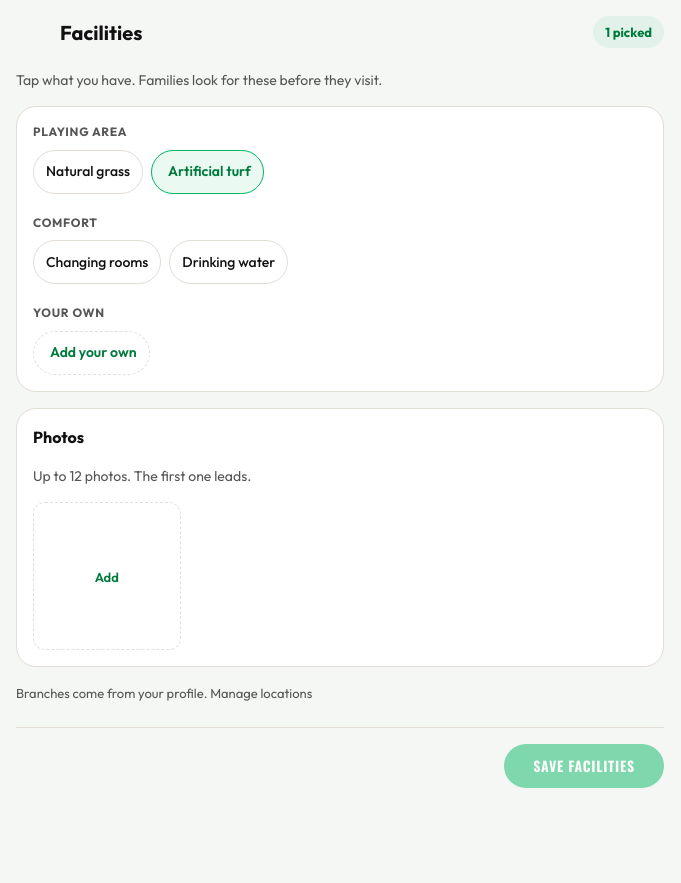
Test case: The facility chips › refuses own words that are too short, and a repeat
Click the button "Add your own" at (91, 353), box [33,331,150,375]
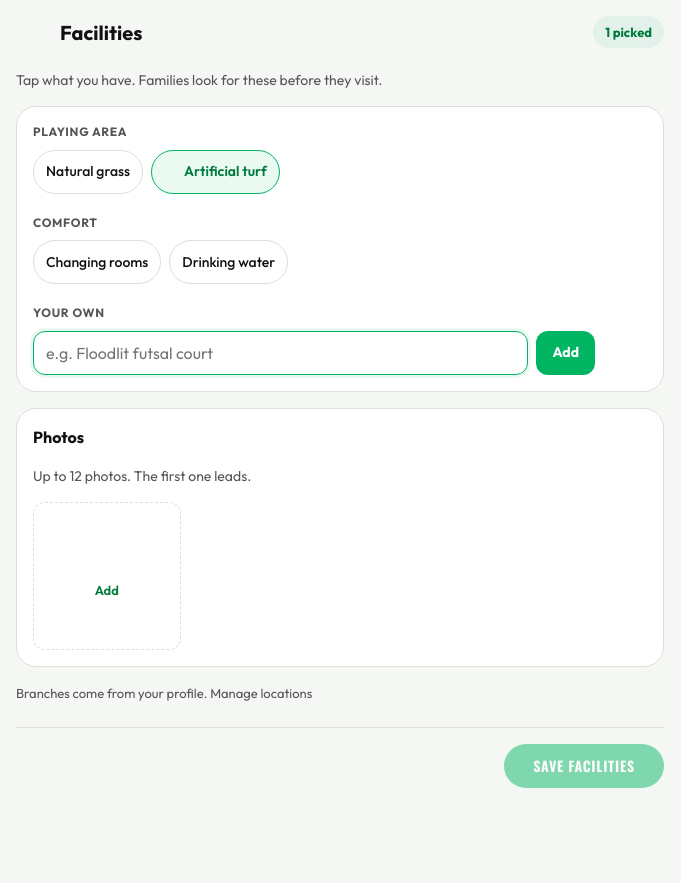
Type "x" into the field named "A facility in your own words" at (281, 353), box [33,331,528,375]
Press Enter in the field named "A facility in your own words", box [33,331,528,375]
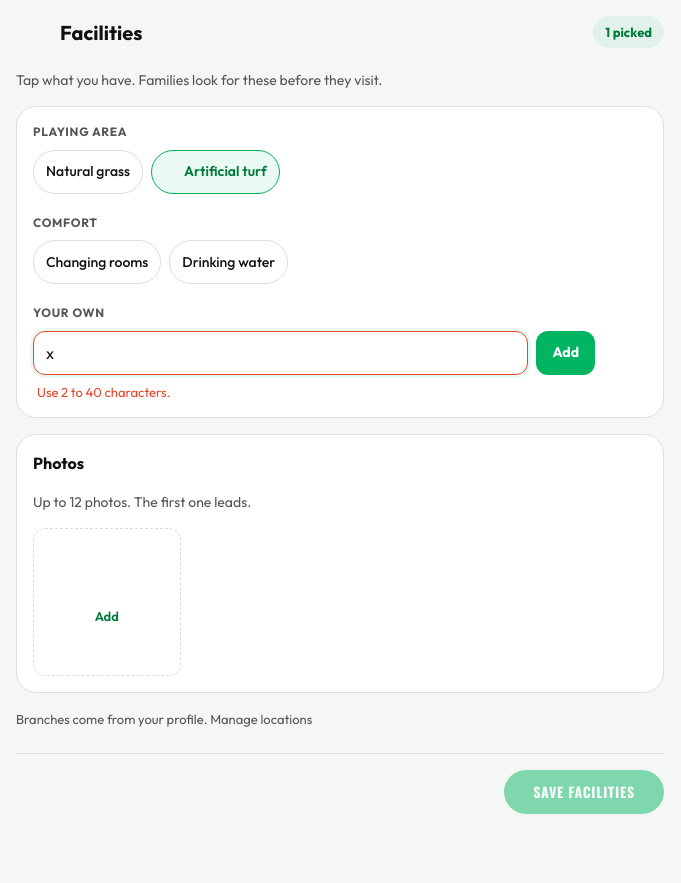
Result: the text "Use 2 to 40 characters." is shown at [37,383,170,401]
Replace the text in the field named "A facility in your own words" with "Gym" at (281, 353), box [33,331,528,375]
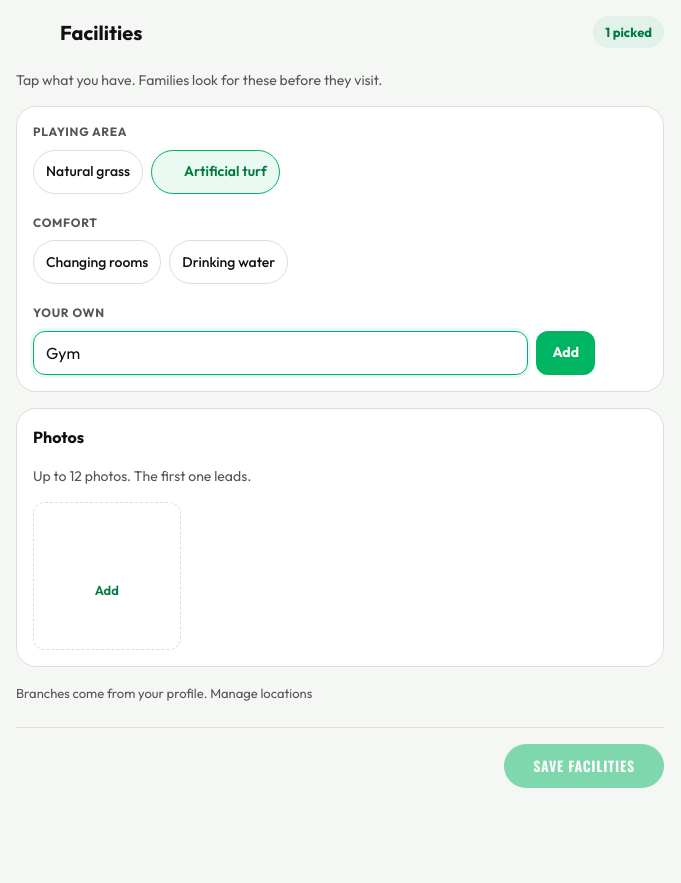
Press Enter in the field named "A facility in your own words", box [33,331,528,375]
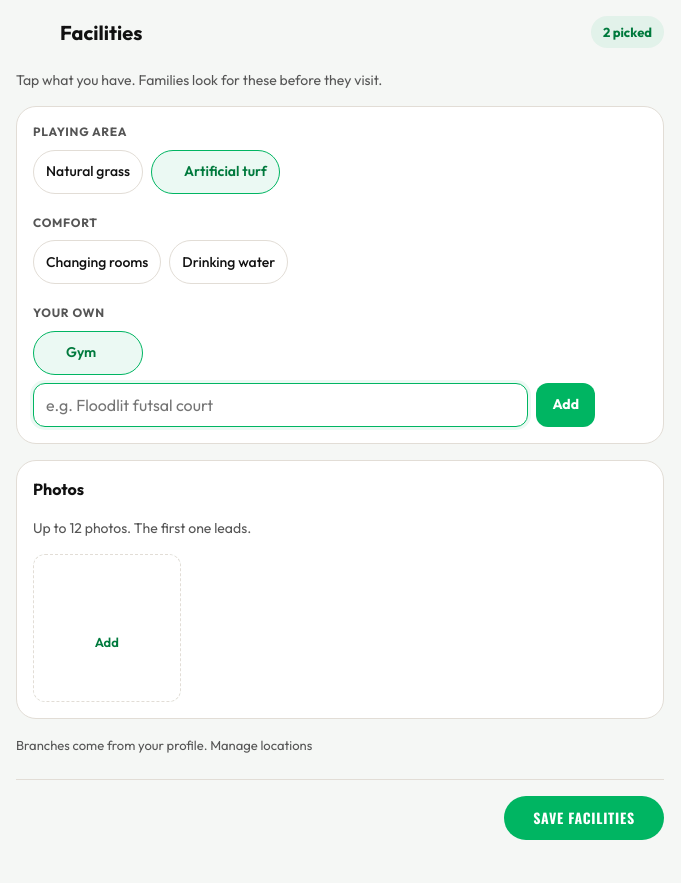
Type "gym" into the field named "A facility in your own words" at (281, 405), box [33,383,528,427]
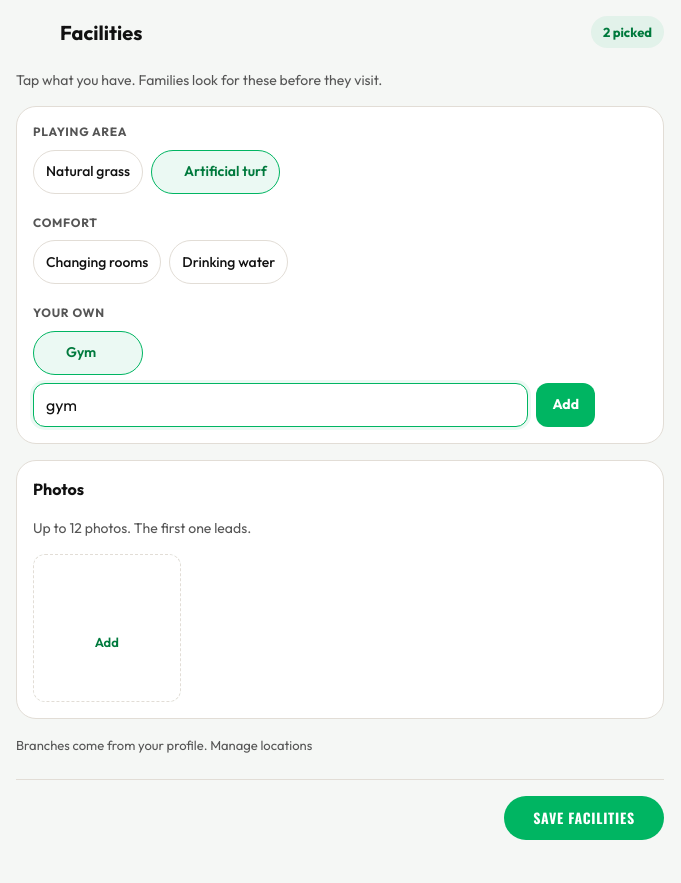
Press Enter in the field named "A facility in your own words", box [33,383,528,427]
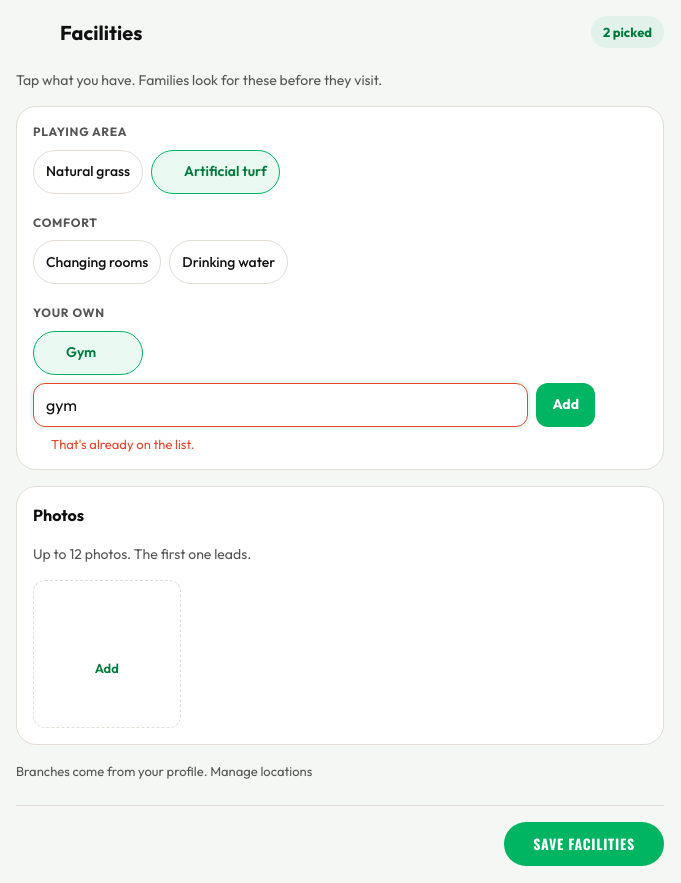
Result: the text "That's already on the list." is shown at [51,435,194,453]
